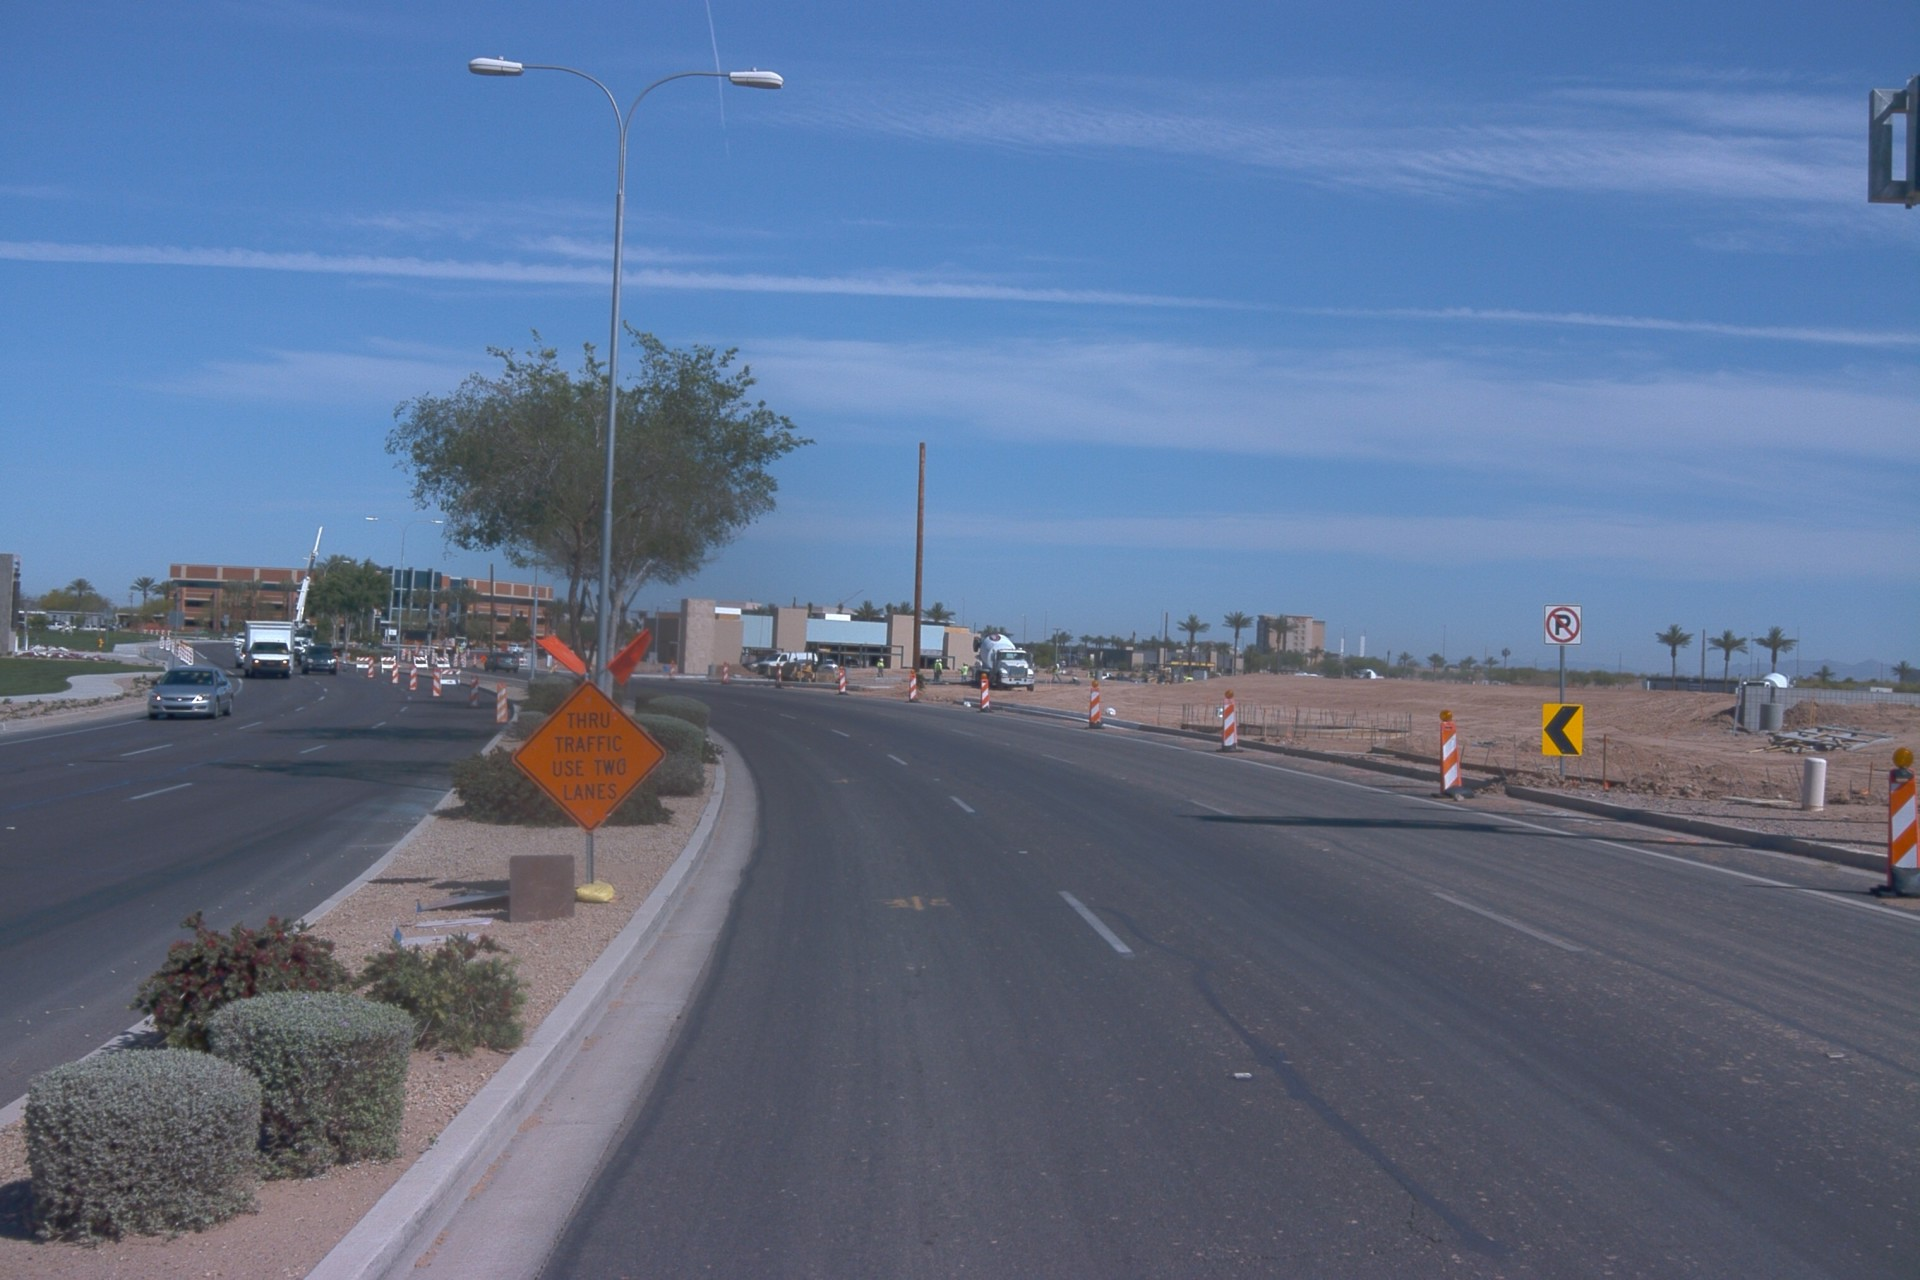TYPE_PEDESTRIAN: (957, 662, 969, 685), (936, 658, 945, 686), (1049, 663, 1060, 683), (876, 656, 885, 678), (931, 659, 938, 682)
TYPE_VEHICLE: (244, 518, 328, 680), (141, 667, 231, 719), (240, 617, 298, 679), (1738, 667, 1795, 691), (301, 642, 339, 675), (759, 652, 819, 667), (1143, 665, 1184, 686), (482, 651, 517, 672), (46, 618, 83, 634), (741, 657, 771, 676), (232, 639, 249, 670), (289, 636, 308, 652), (1293, 670, 1329, 678), (227, 633, 245, 648), (823, 653, 840, 668), (971, 658, 983, 669), (926, 666, 951, 671), (1102, 673, 1115, 681), (900, 666, 910, 671)
